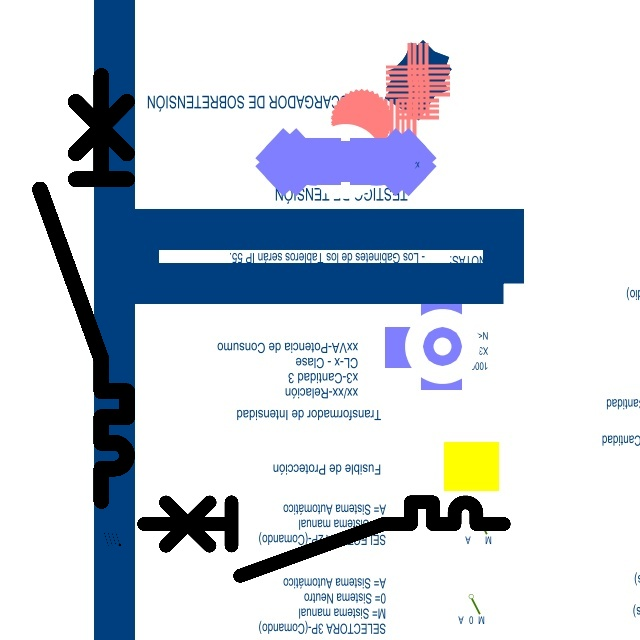interruptor_termomagnetico: (29, 65, 138, 512), (134, 493, 512, 585)
